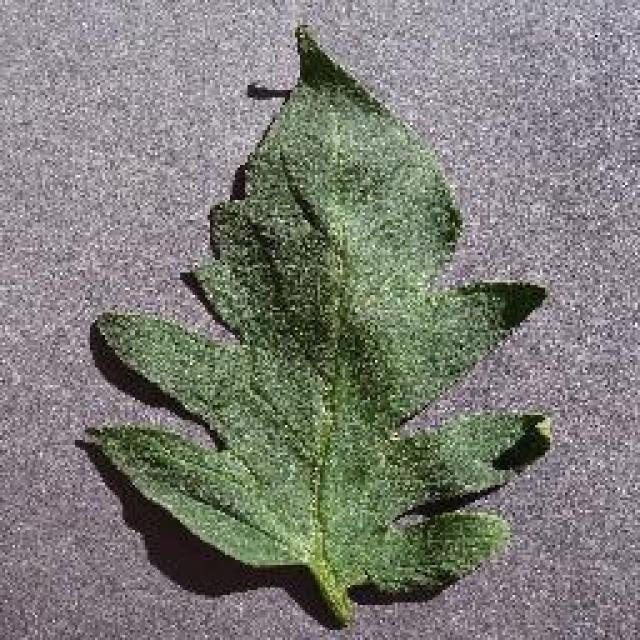Healthy: (75, 15, 557, 637)
